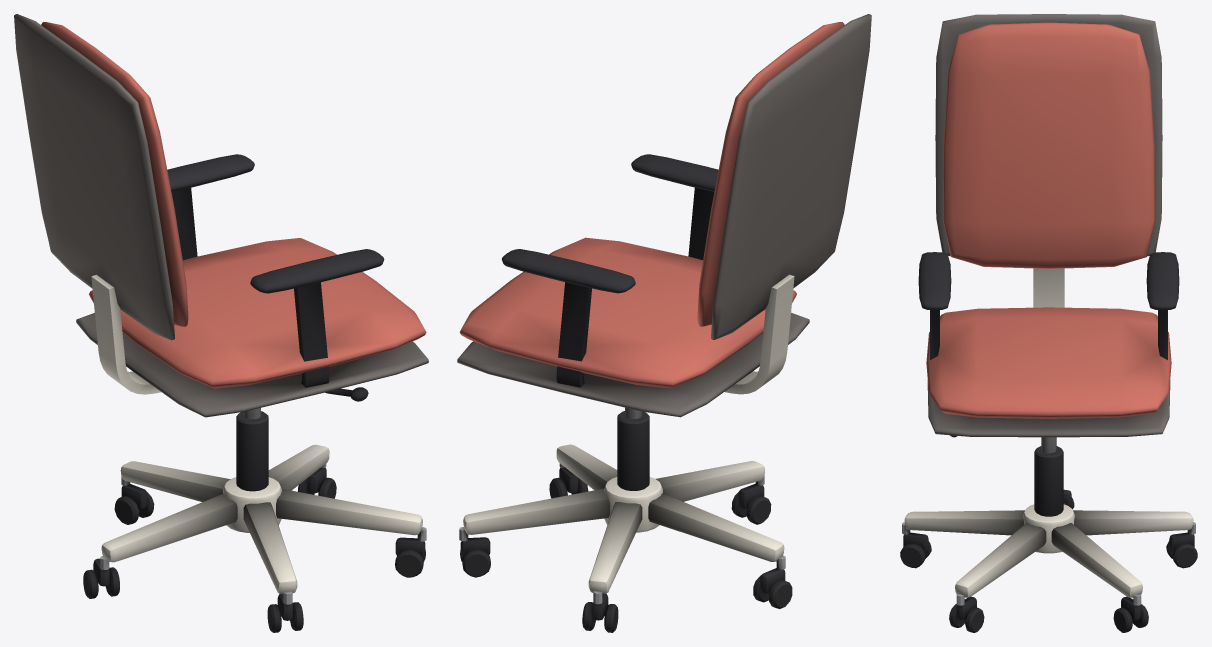
The model's file is junk_chair_office.glb.
3 views of the same model, side by side, from view 1: azimuth 30°, elevation 25°; view 2: azimuth 150°, elevation 25°; view 3: azimuth 270°, elevation 25° (orthographic). The views are drawn at different scales.
Visible parts, largest first — view 1: PART; view 2: PART; view 3: PART.
Boxes of the visible parts, box(x1,y1,x2,y2) form: PART: box(14, 14, 428, 632); PART: box(457, 14, 871, 632); PART: box(900, 14, 1197, 632).
Size of the model in its own units: 0.6067 by 1.05 by 0.5743.
